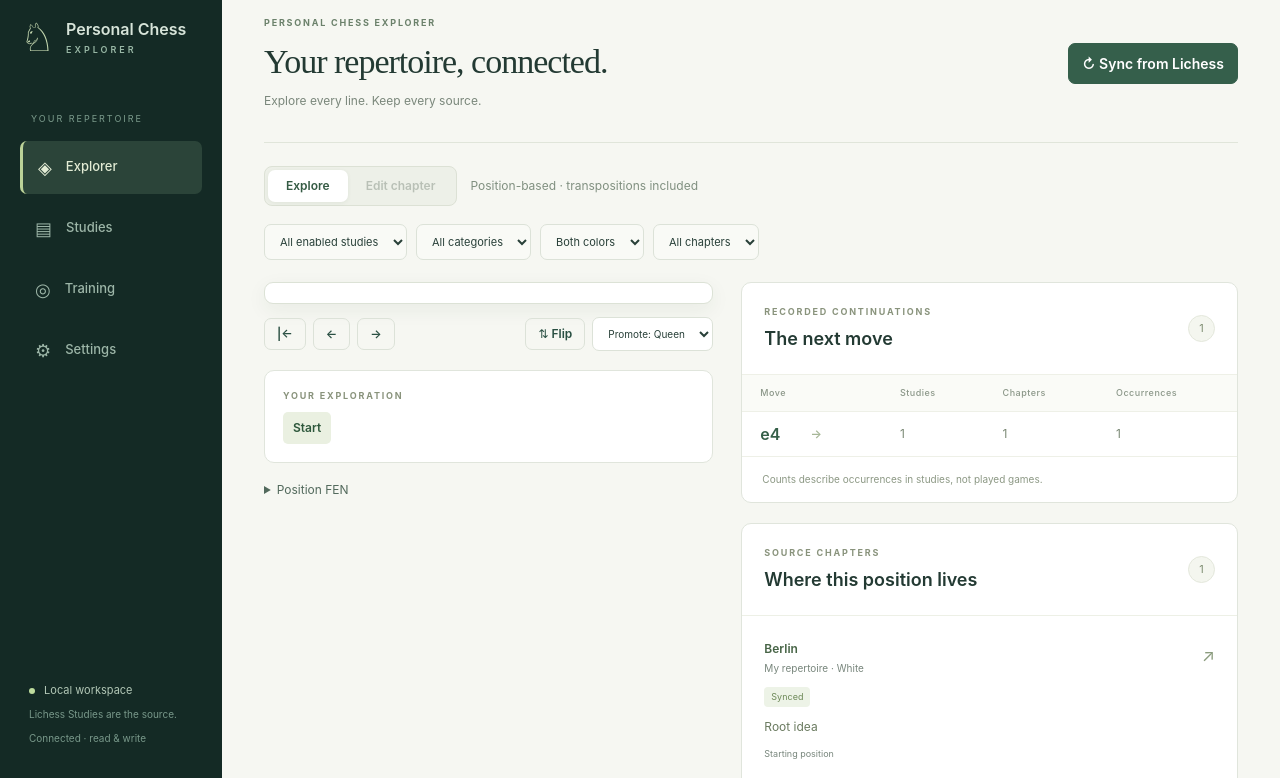
Test: blocks conflict upload until both review and overwrite are acknowledged
Step 1. Click the button "Berlin" → [781, 649], box [764,640,798,658]
(page scrolled)
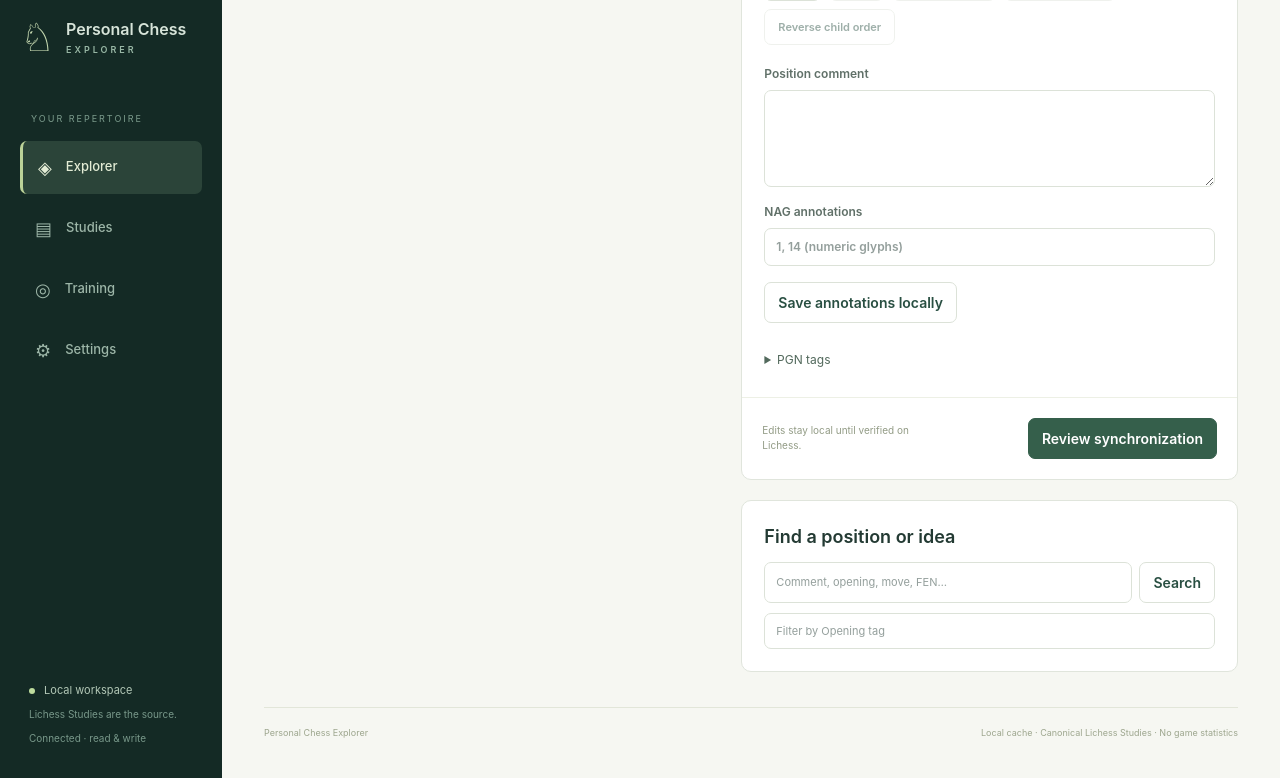
Step 2. Click the button "Review synchronization" → [1122, 438], box [1028,418,1217,459]
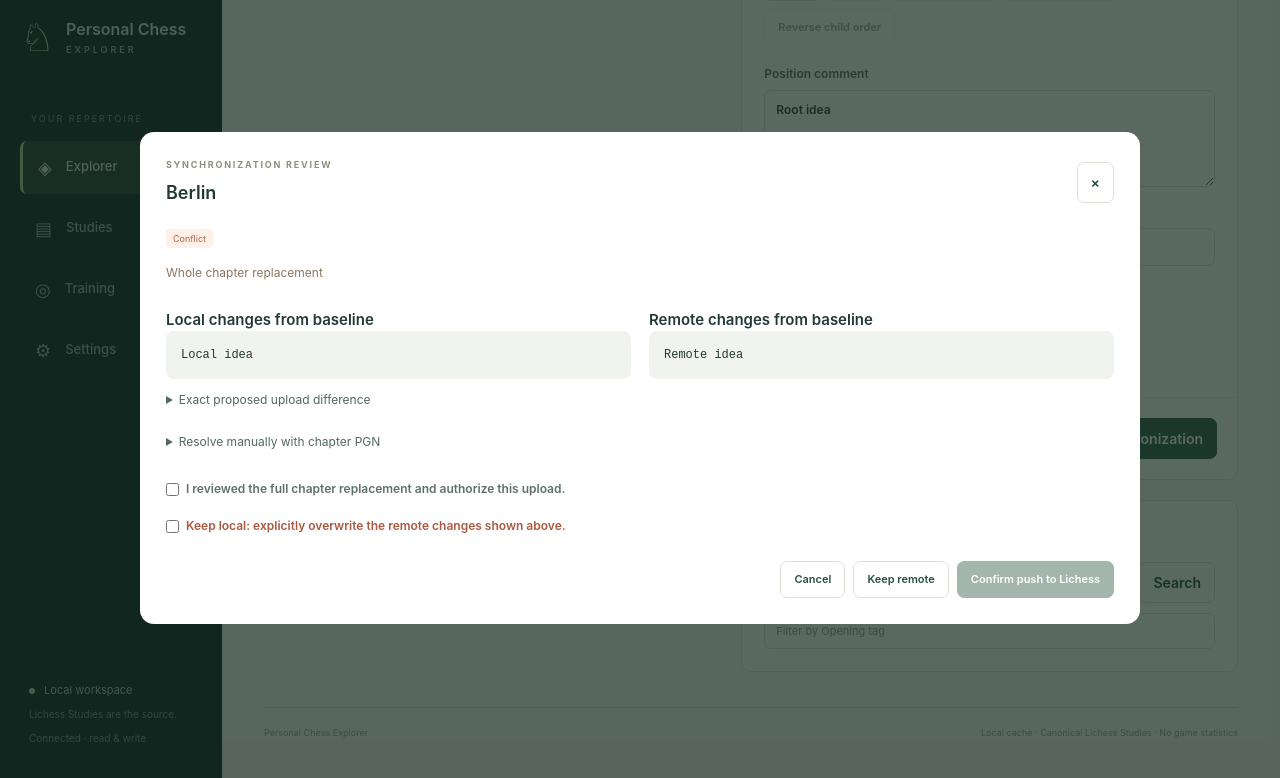
Now the button "Confirm push to Lichess" is disabled, box [957,561,1114,598]
Step 3. Click the checkbox labelled "I reviewed the full chapter replacement and authorize this upload." → [172, 490], box [166,483,179,496]
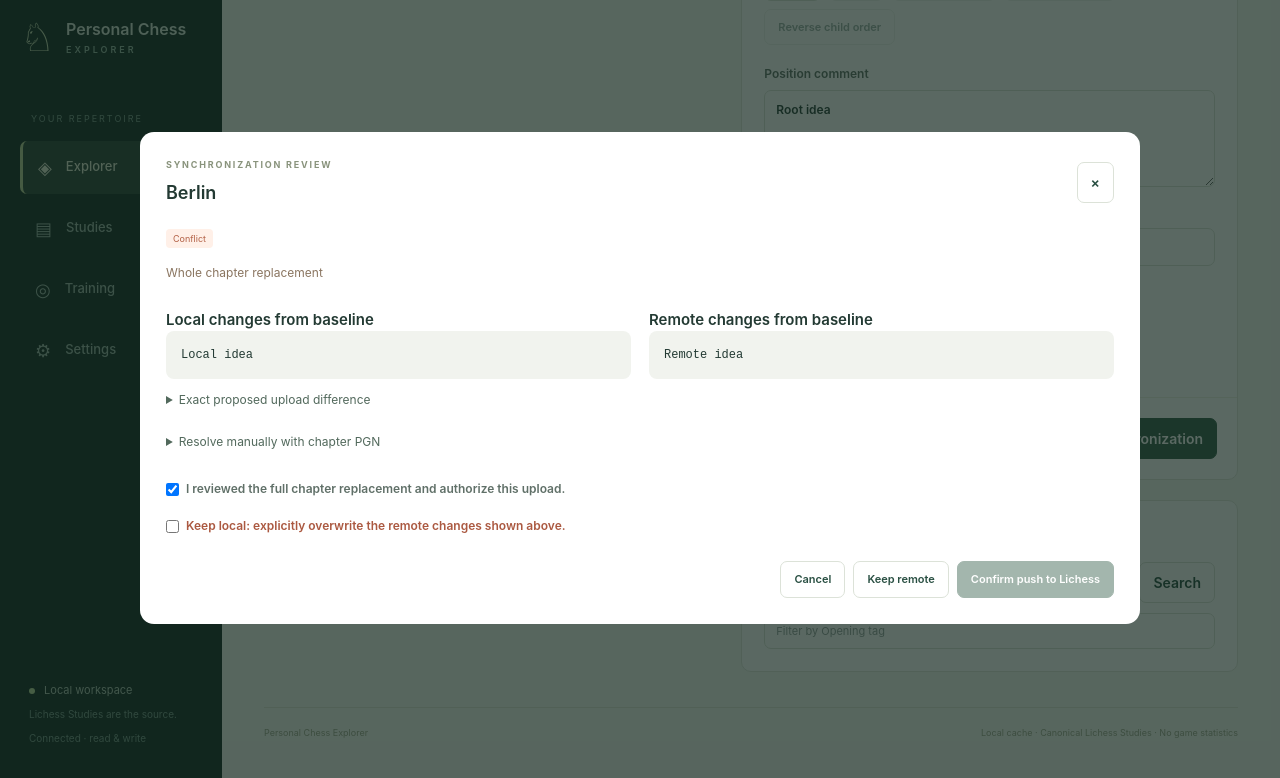
Now the button "Confirm push to Lichess" is disabled, box [957,561,1114,598]
Step 4. Click the checkbox labelled "Keep local: explicitly overwrite the remote changes shown above." → [172, 526], box [166,520,179,533]
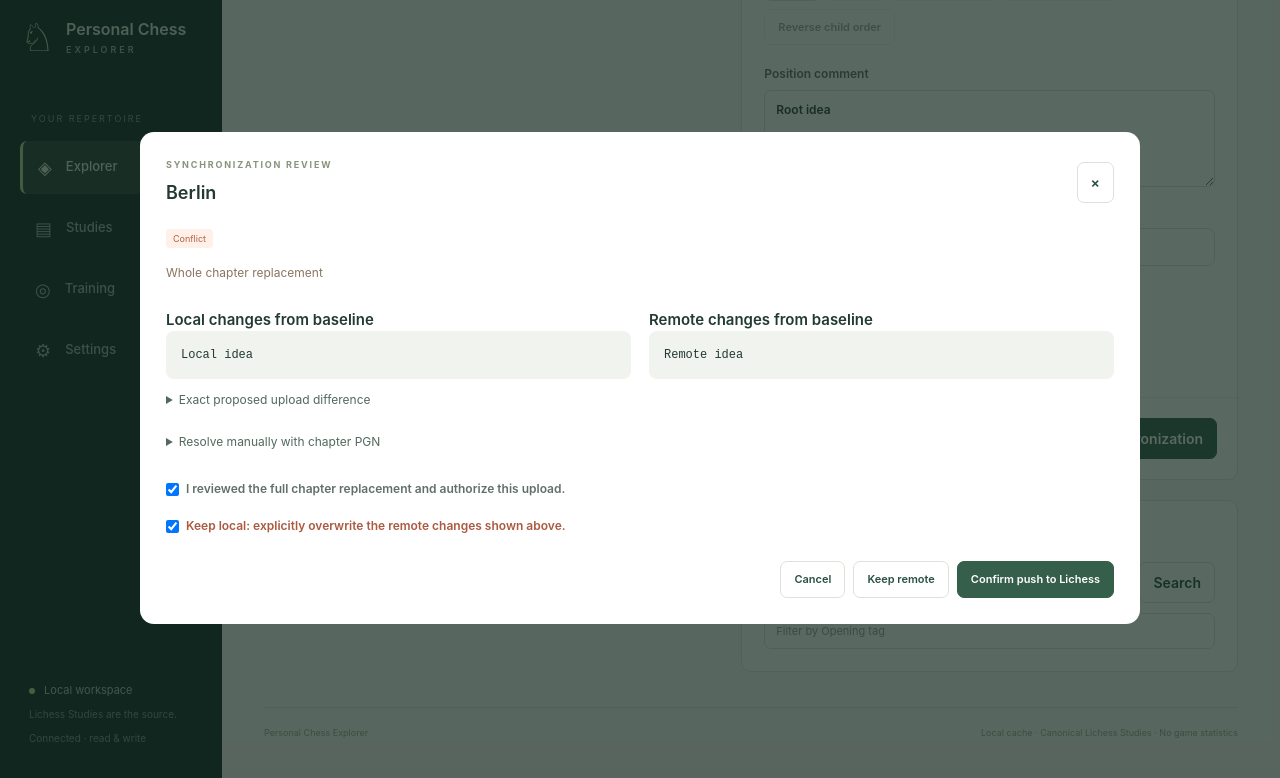
Now the button "Confirm push to Lichess" is enabled, box [957,561,1114,598]
